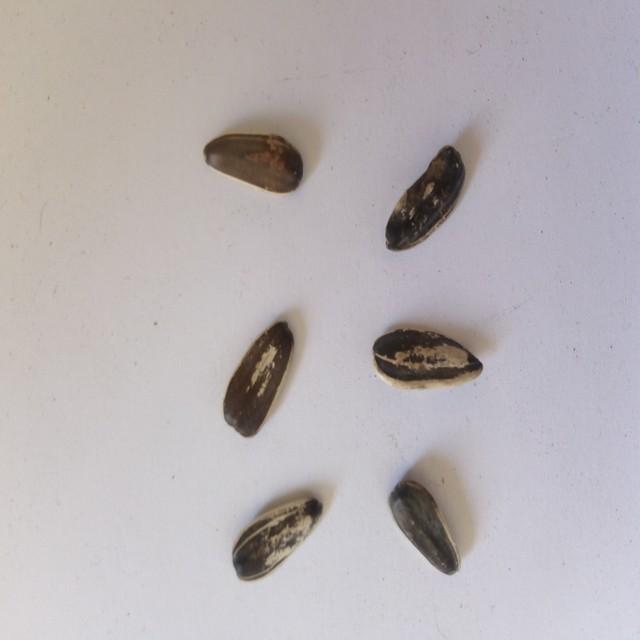girasol: (377, 138, 469, 258), (217, 314, 298, 442), (225, 493, 331, 581), (368, 325, 493, 395), (383, 472, 464, 579), (195, 127, 305, 198)
